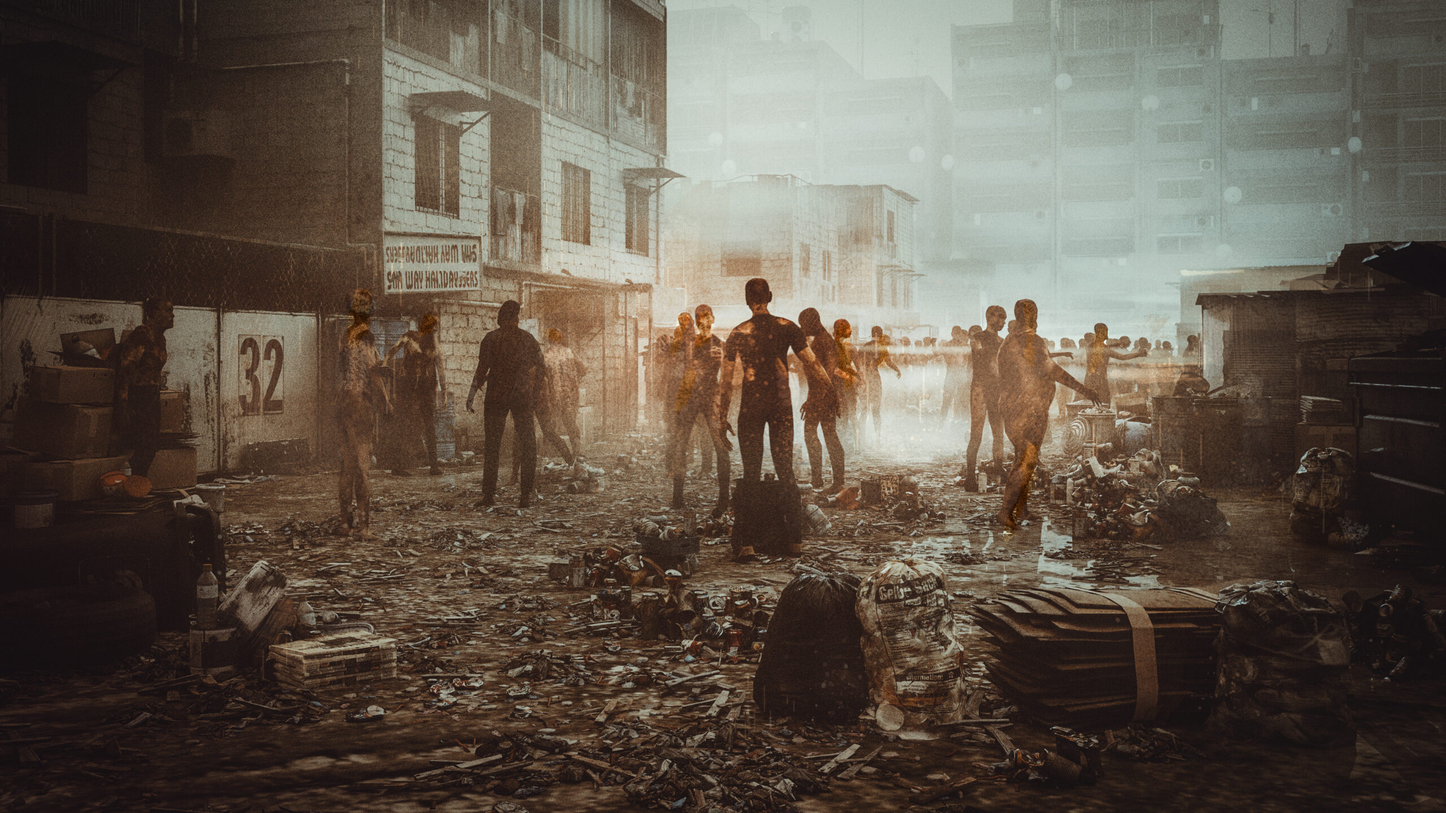human: (470, 298, 547, 514), (723, 279, 801, 486), (794, 309, 858, 499)
